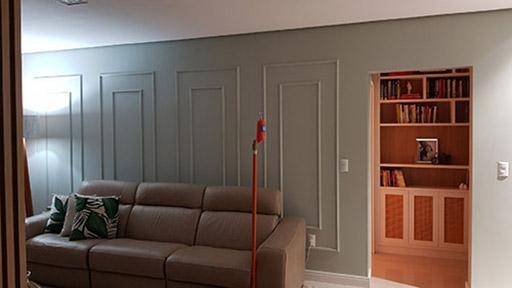Detector_Tensao_Contato: (256, 114, 267, 145)
Vara_Manobra: (251, 144, 258, 288)
